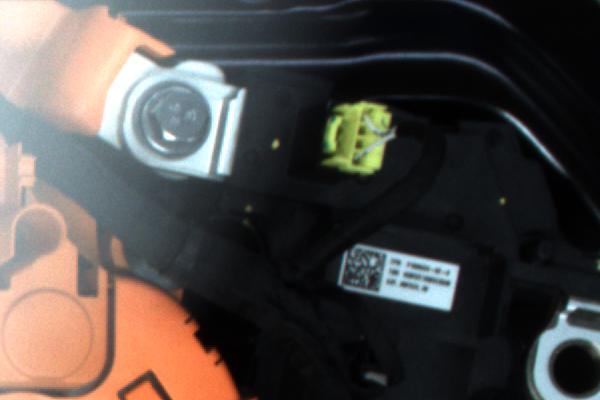nut_b: (133, 82, 221, 163)
